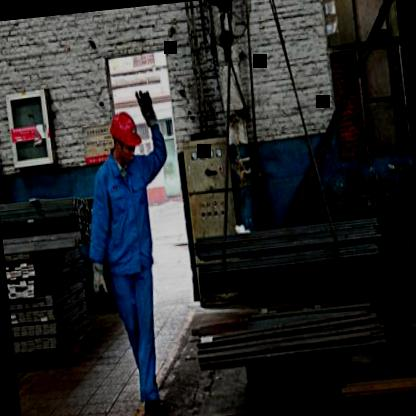helmet: (106, 104, 144, 166)
